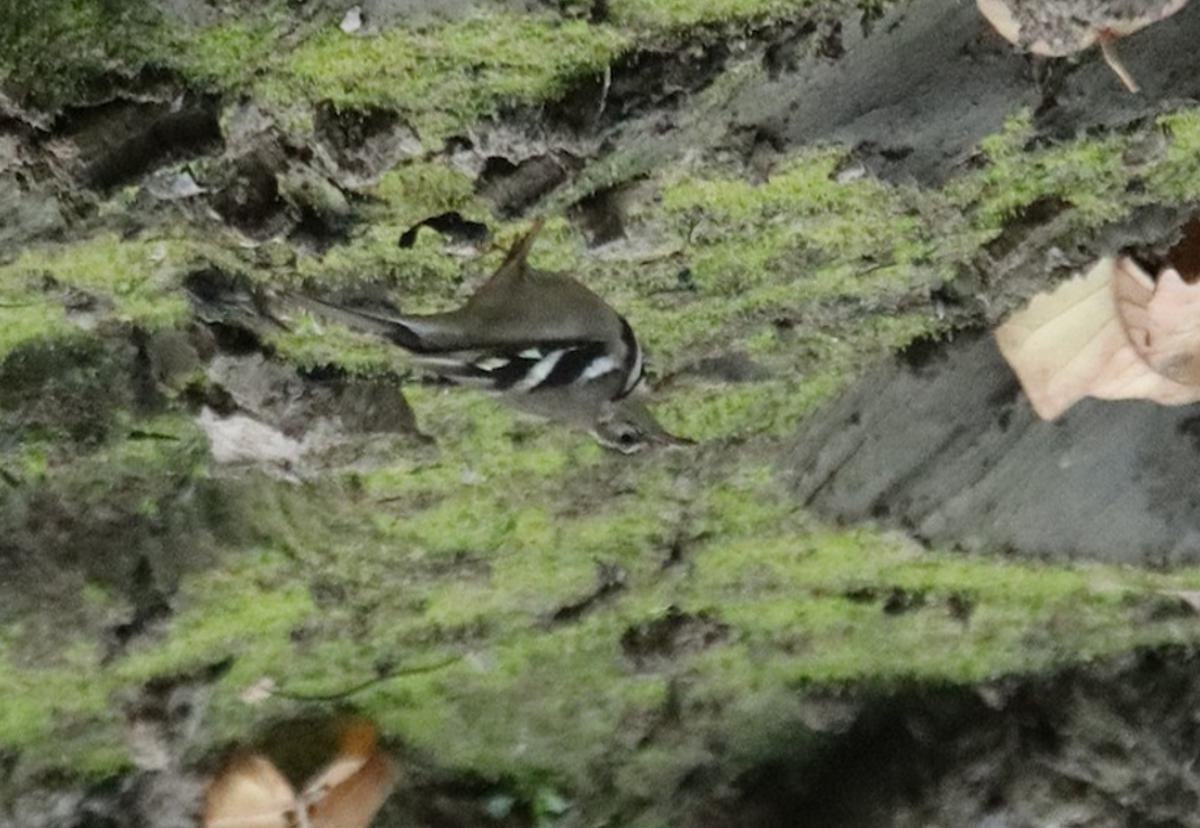wagtail: (310, 202, 727, 474)
